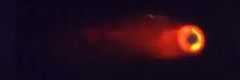keyhole: (183, 30, 200, 46)
